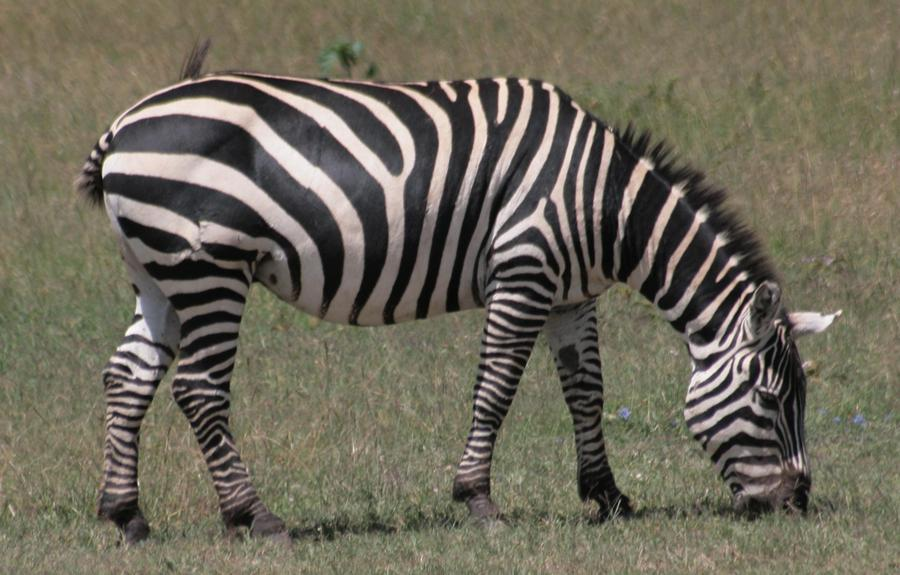zebra_plains: (132, 55, 596, 330)
